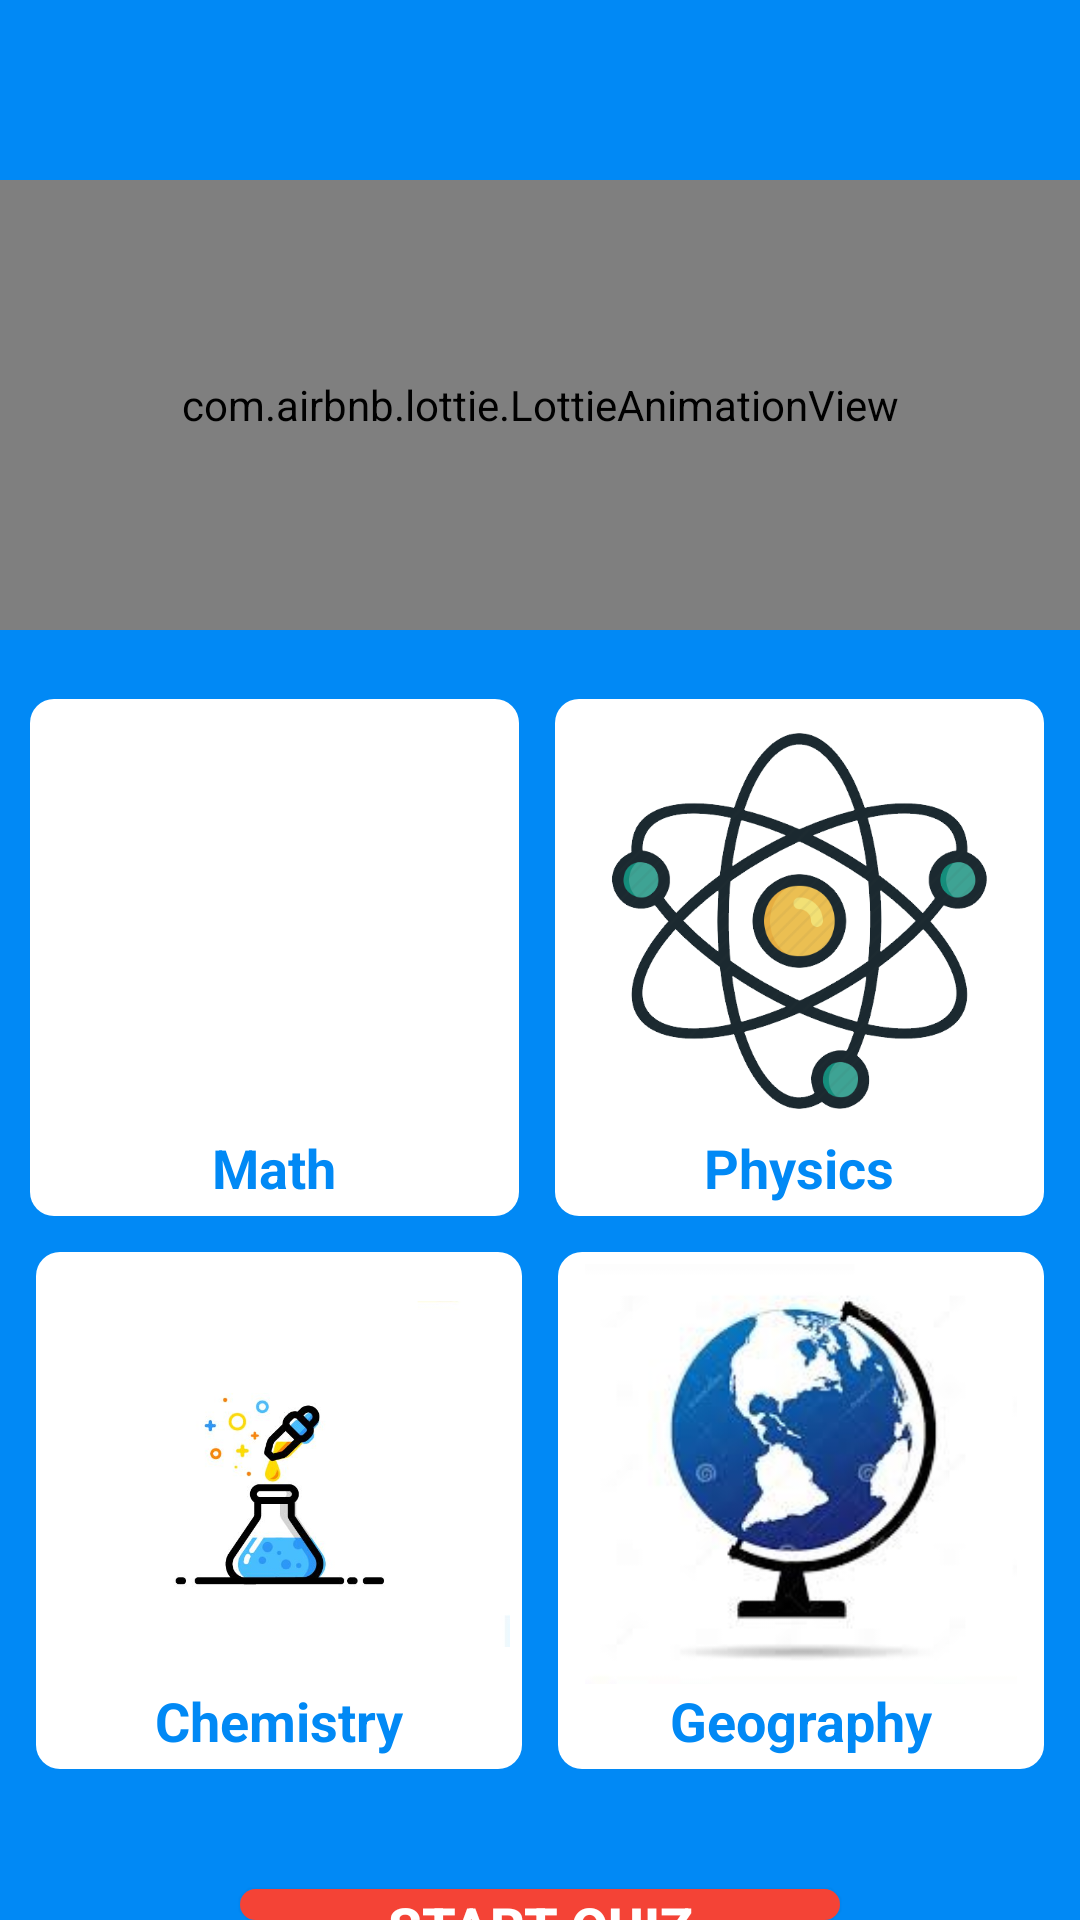

Where to tap for icons on this 1080px×1920px app screen, as (x=x, y=y):
globusicon: (x=803, y=1478)
kimyo: (x=279, y=1491)
